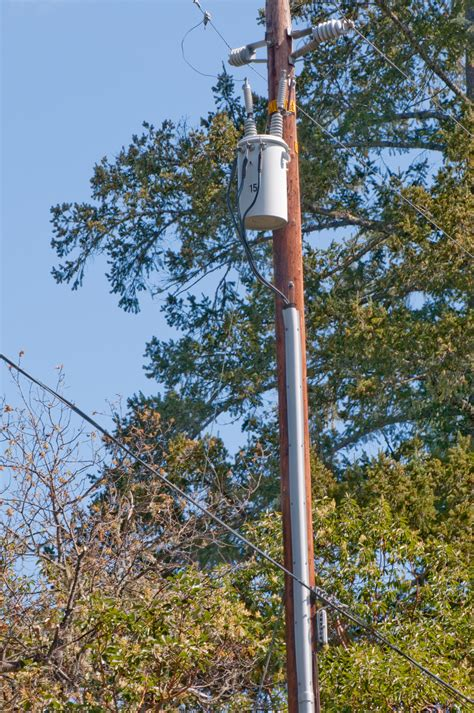pole: (180, 2, 396, 706)
